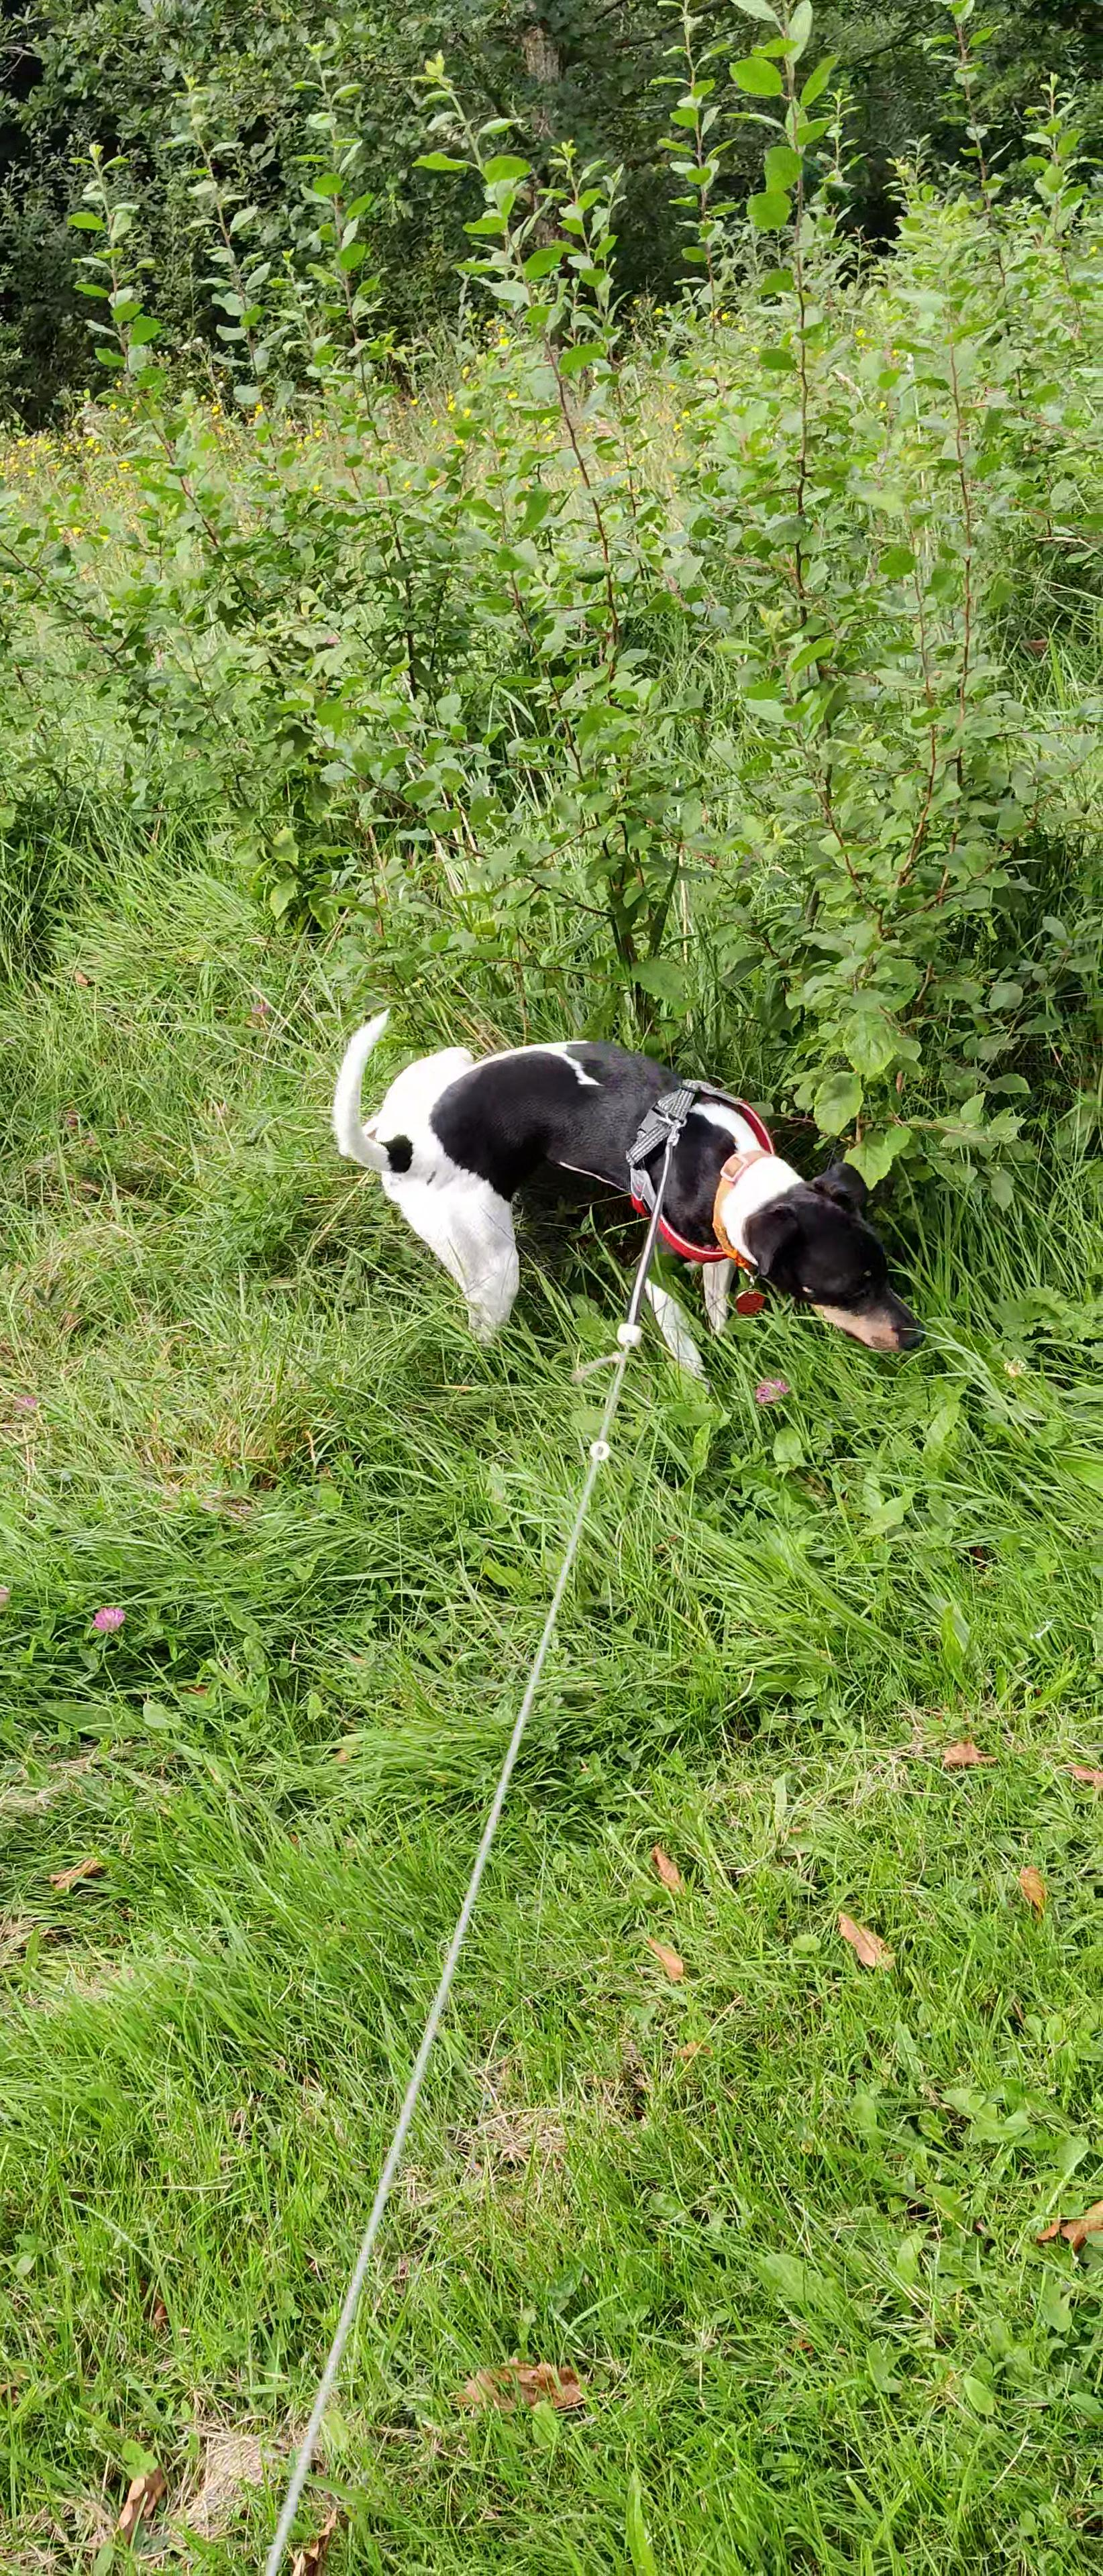Dog: (309, 984, 934, 1383)
